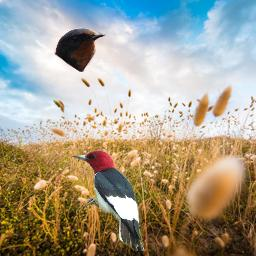Swallow: (54, 27, 106, 72)
Woodpecker: (70, 150, 147, 251)
